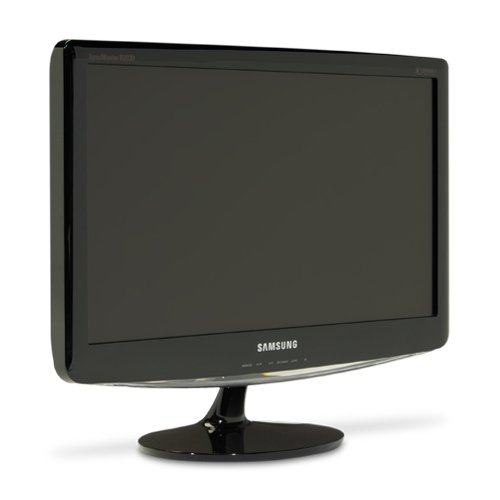samsung-monitor-b2030: (46, 45, 454, 461)
